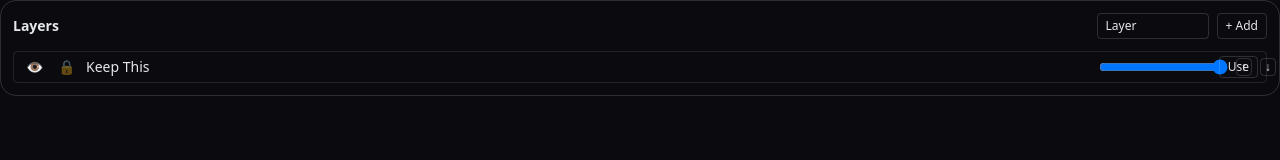
Test: LayersPanel › rename layer › should keep original name when input is empty
The image size is (1280, 160).
Click the text "Keep This".
click(118, 66)  # box [86, 57, 150, 76]
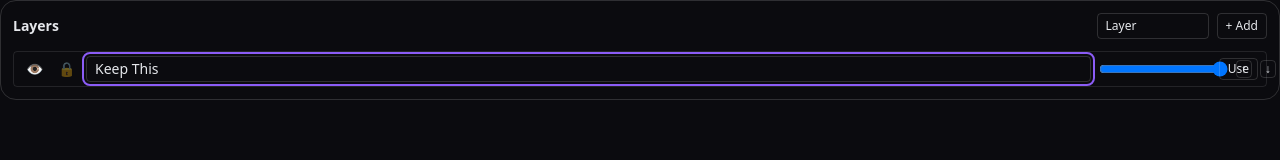
Clear the 2nd field showing "Keep This" at coordinates (588, 69), box [86, 56, 1091, 82]
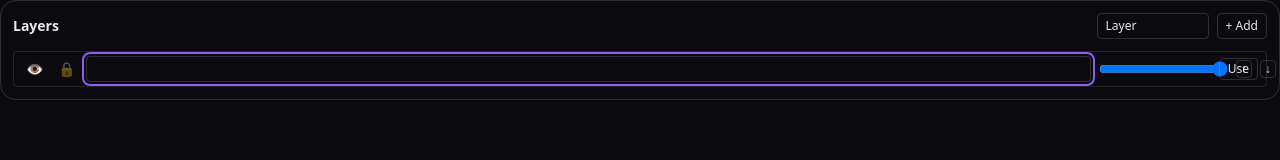
Leave the 2nd field showing "Keep This", box [86, 56, 1091, 82]
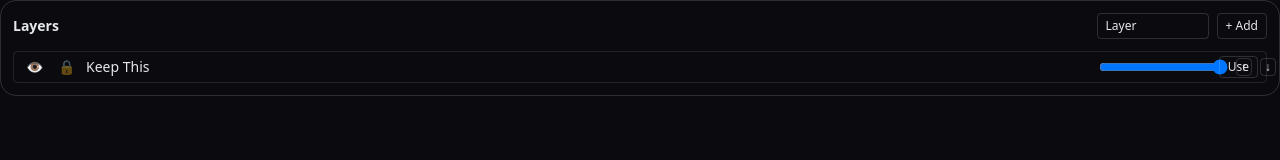
Check: the text "Keep This" is shown, box [86, 57, 150, 76]
